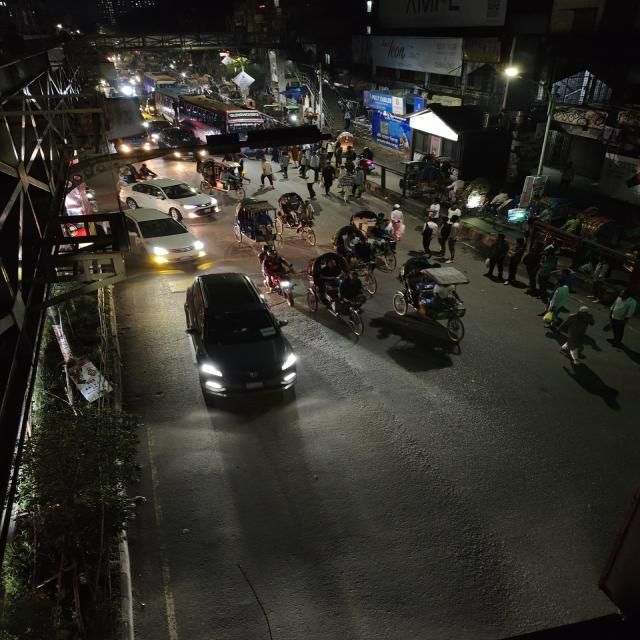bus: (152, 90, 266, 138)
car: (178, 268, 303, 404), (118, 211, 206, 269), (118, 178, 220, 220), (154, 127, 208, 161)
motorcycle: (257, 242, 298, 303), (354, 146, 378, 176)
pedestrian: (555, 306, 597, 368), (603, 289, 638, 349), (502, 237, 532, 286), (481, 234, 510, 280), (588, 256, 614, 302), (543, 284, 576, 316), (536, 302, 566, 332), (435, 218, 457, 256), (418, 221, 439, 254), (259, 158, 277, 192), (338, 167, 356, 201), (301, 164, 320, 196), (276, 151, 296, 180), (556, 267, 579, 290), (320, 163, 338, 192), (388, 204, 409, 227)
pickup_van: (115, 132, 152, 156)
rickshaw: (393, 256, 478, 333), (303, 249, 363, 329), (234, 198, 284, 251), (196, 156, 252, 196), (276, 193, 317, 245), (349, 209, 382, 237)
